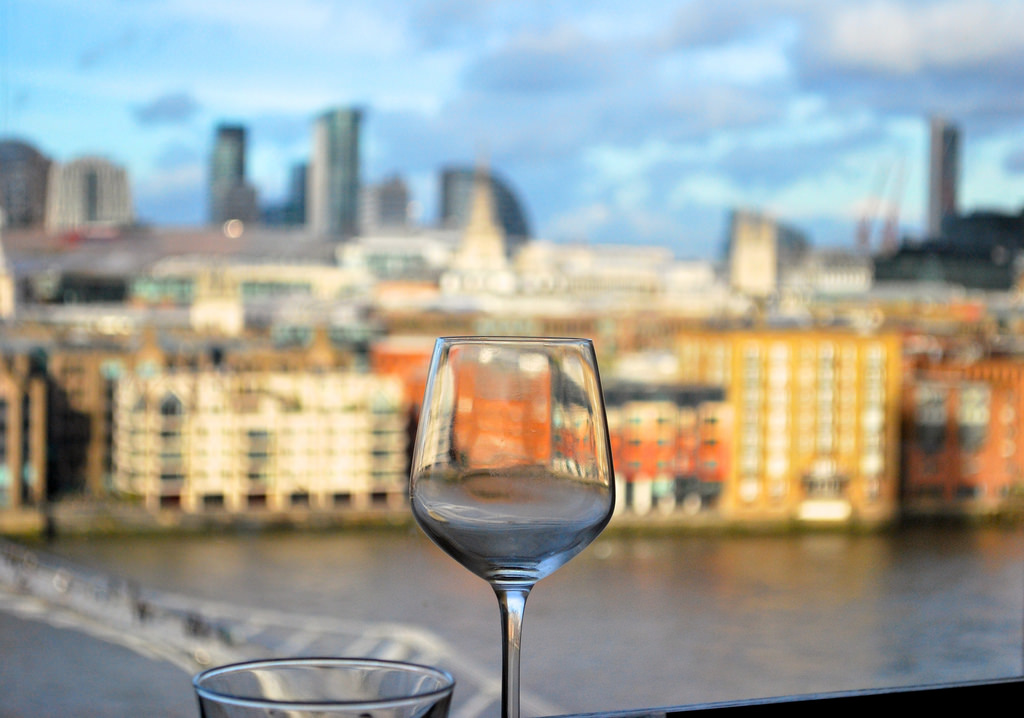glass of water: (419, 329, 612, 718)
